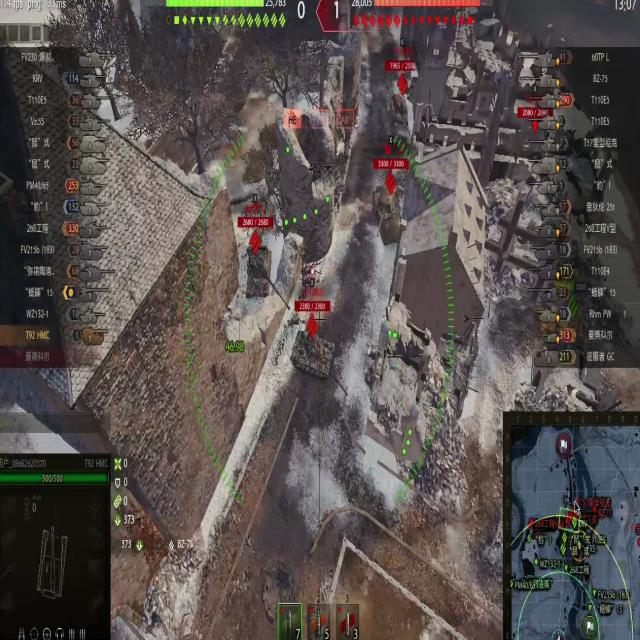tank: (238, 215, 274, 312)
